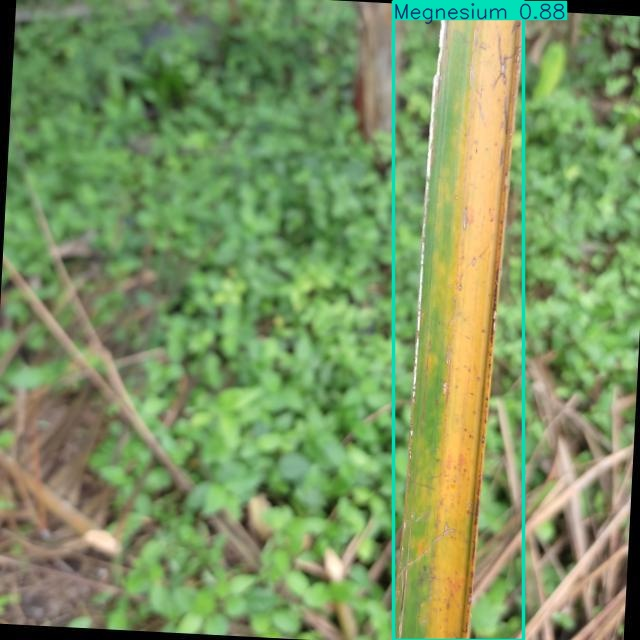Megnesium: (393, 2, 523, 640)
